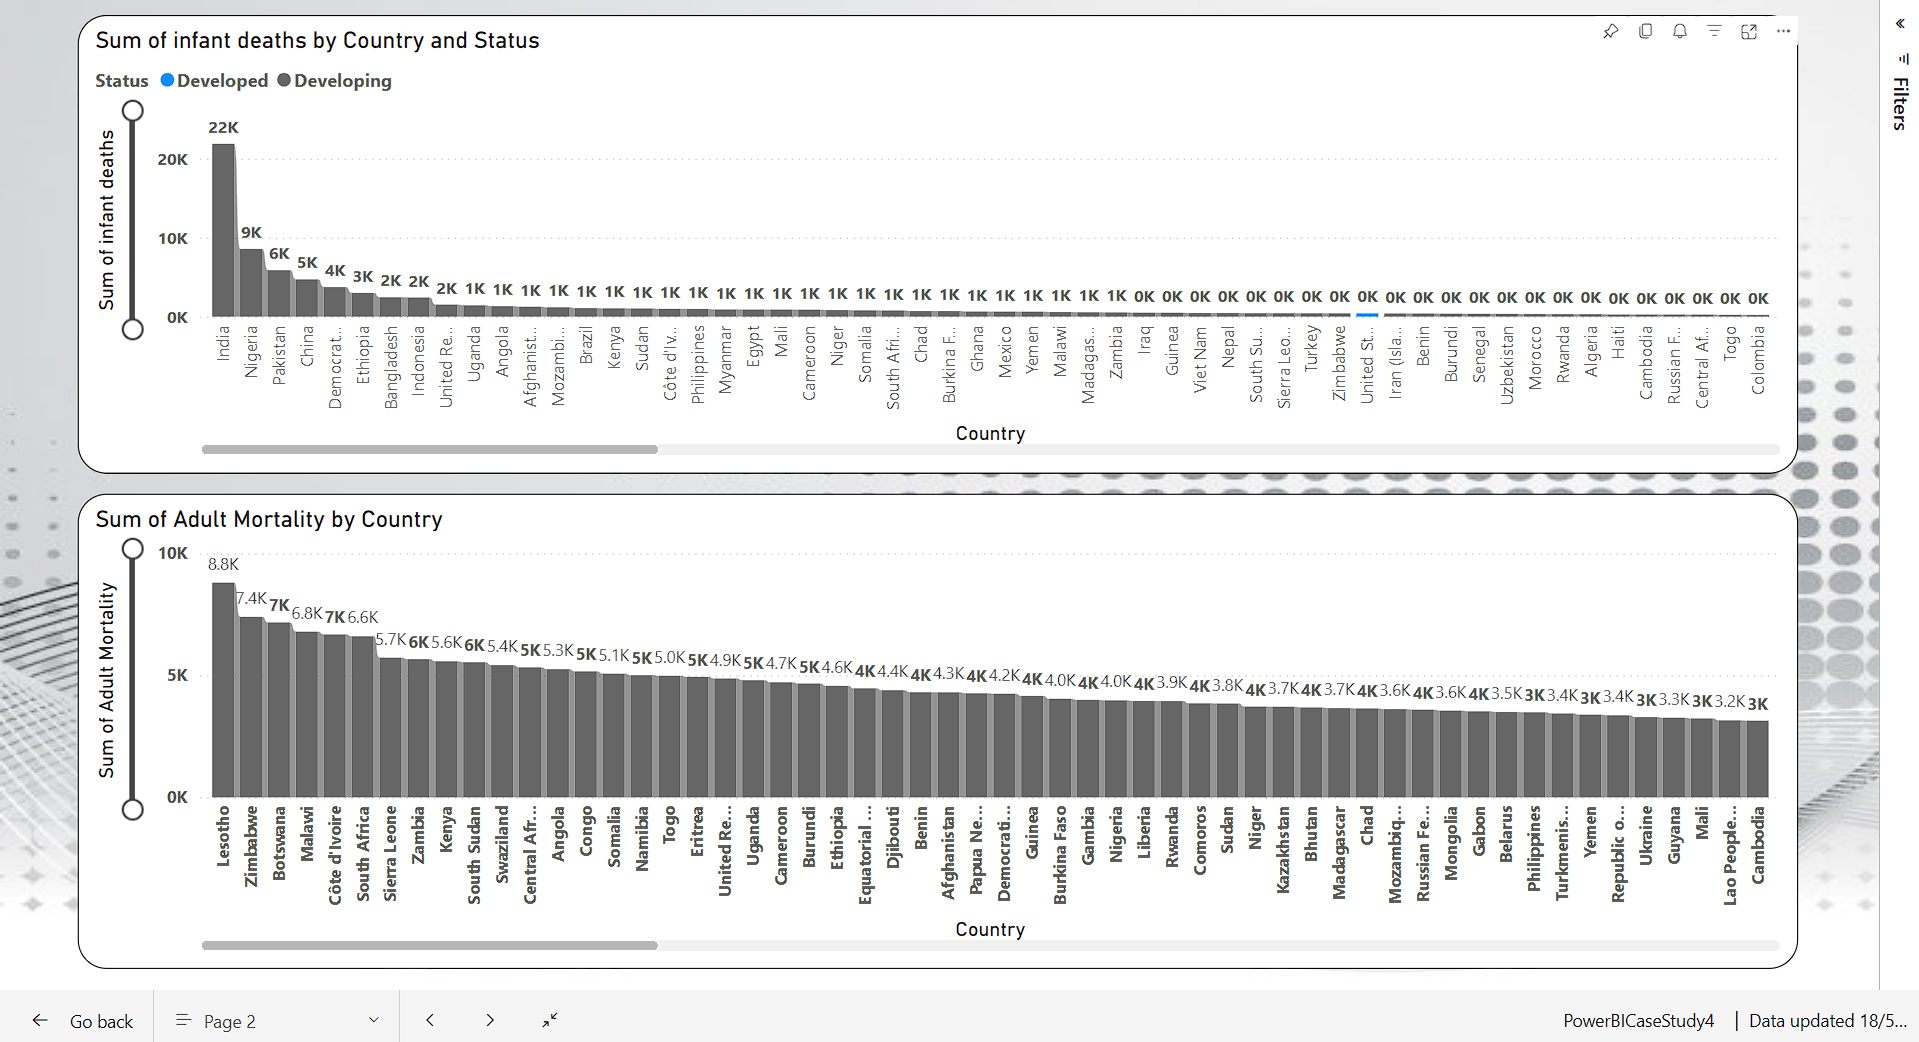

What the dashboard file says about the page in this screenshot:
{"tool":"powerbi","page":{"name":"Page 2","canvas":[1280,720],"ordinal":1},"visuals":[{"type":"columnChart","fields":{"Y":["Sum(Life Expectancy Data.Adult Mortality)"],"Category":["Life Expectancy Data.Country"]},"box":[13.7,359.5,1251.5,345.8],"z":0},{"type":"columnChart","fields":{"Category":["Life Expectancy Data.Country"],"Y":["Sum(Life Expectancy Data.infant deaths)"],"Series":["Life Expectancy Data.Status"]},"box":[13.7,11,1251.5,333.4],"z":1000}]}

Visuals, with their boxes on the page's 1280x720 design canvas (x1, y1, x2, y2). These are canvas units, not pixel positions in the 1919x1042 screenshot, which may show the page scaled, cropped or inside an application window:
columnChart - Sum(Life Expectancy Data.Adult Mortality) x Life Expectancy Data.Country: BBox(14, 360, 1265, 705)
columnChart - Life Expectancy Data.Country x Sum(Life Expectancy Data.infant deaths): BBox(14, 11, 1265, 344)
